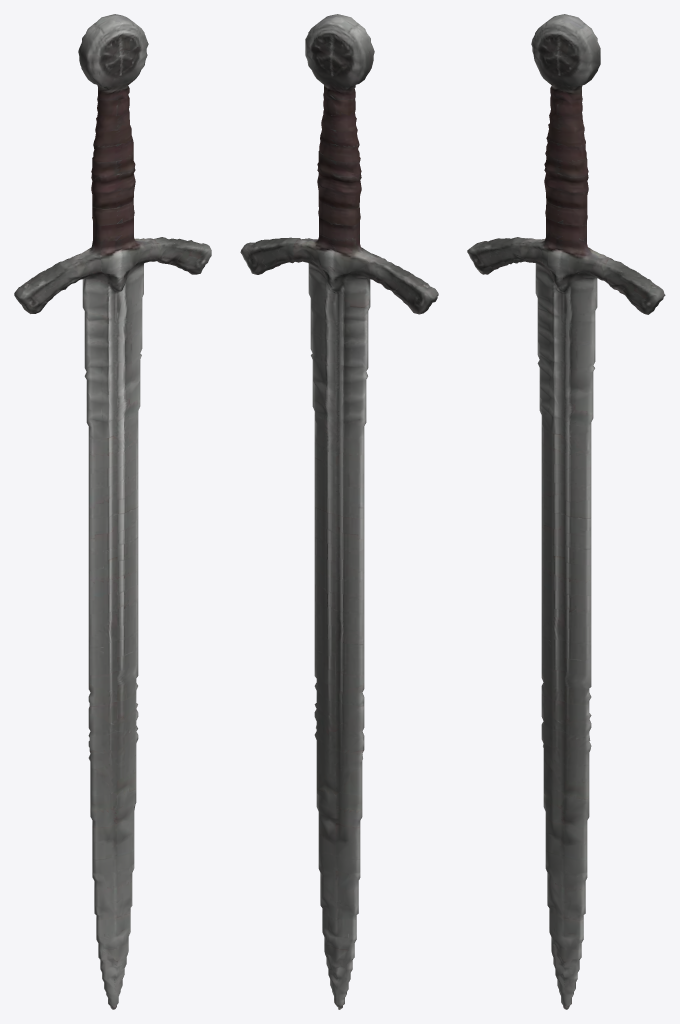
File: Sword_Basic.glb
The picture shows the model from 3 angles, left to right: view 1: azimuth 30°, elevation 25°; view 2: azimuth 150°, elevation 25°; view 3: azimuth 330°, elevation 25°; orthographic projection.
Size of the model in its own units: 0.3874 by 1.91 by 0.0588.
1 material, 1 textured.
